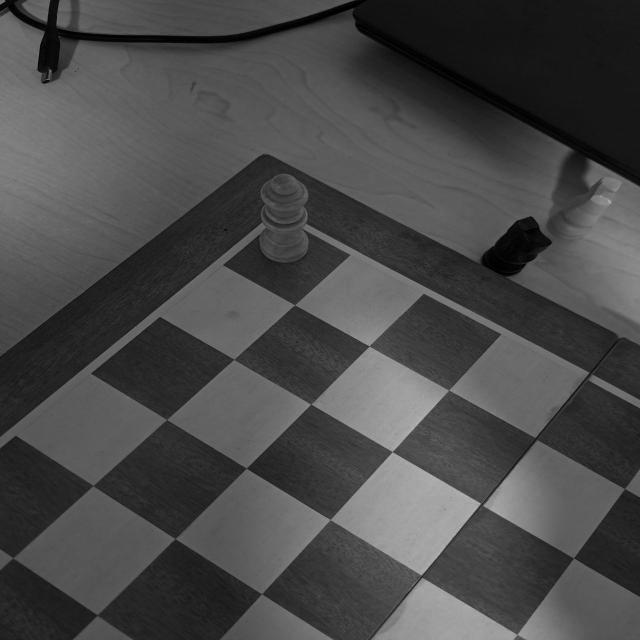chess-table-corners: (245, 198, 325, 258)
